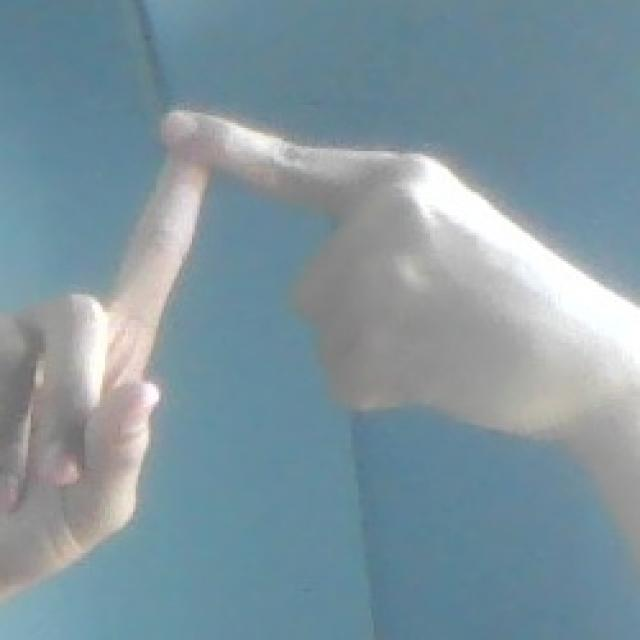Alphabet-E: (0, 115, 640, 602)
